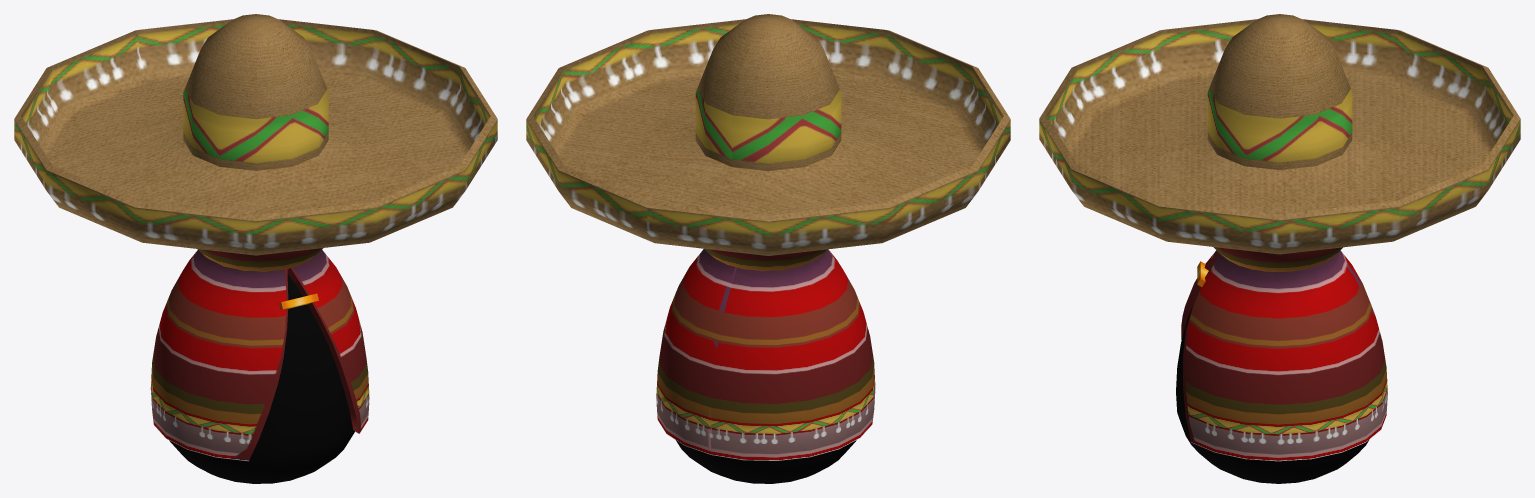
File: Mexican.fbx
3 renders of one model, left to right at view 1: azimuth 30°, elevation 25°; view 2: azimuth 150°, elevation 25°; view 3: azimuth 270°, elevation 25°, orthographic.
Parts seen in each view (by area): view 1: pSphere11; view 2: pSphere11; view 3: pSphere11.
Part boxes in pixels (<box>): pSphere11: <box>14,14,497,483</box>; pSphere11: <box>526,14,1010,483</box>; pSphere11: <box>1039,14,1520,483</box>.
Size of the model in its own units: 20.76 by 21.44 by 20.76.
